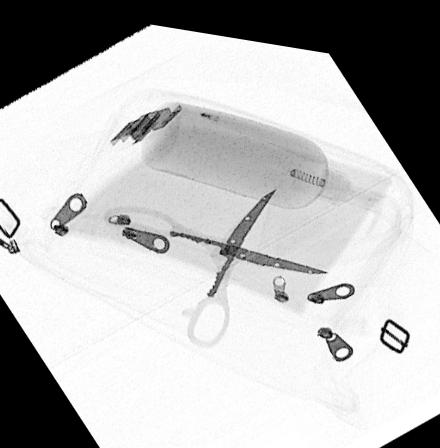Scissors: (102, 176, 327, 340)
